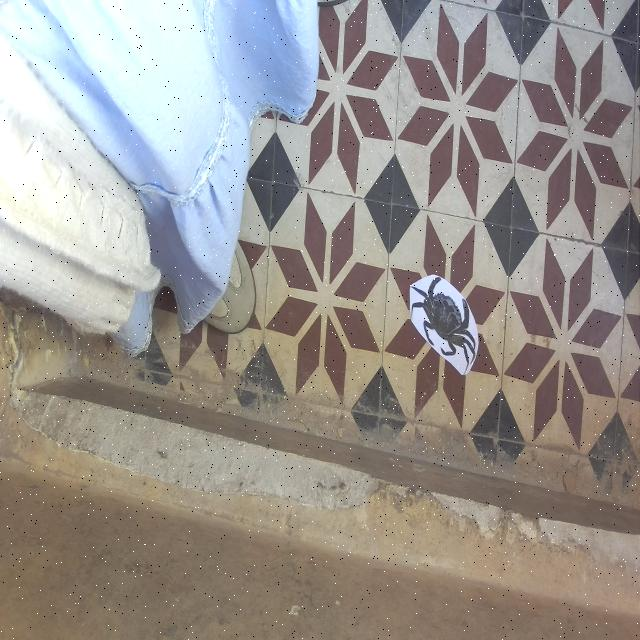European_Green_Crab: (402, 258, 486, 379)
